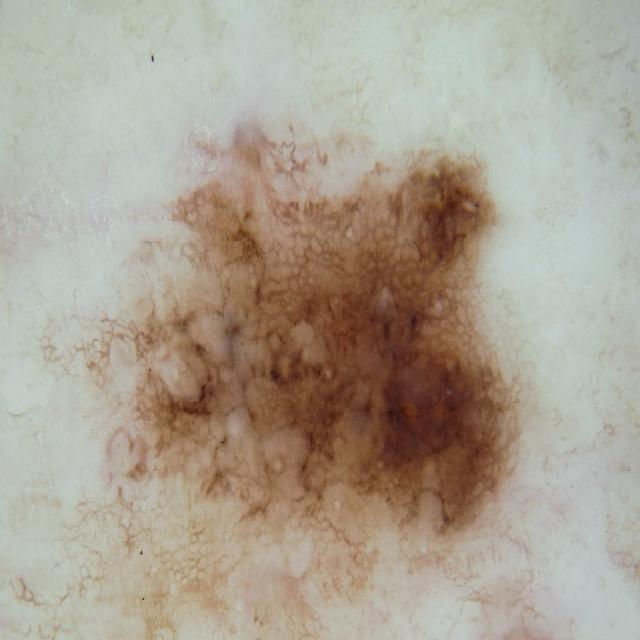Melanoma: (76, 100, 573, 583)
